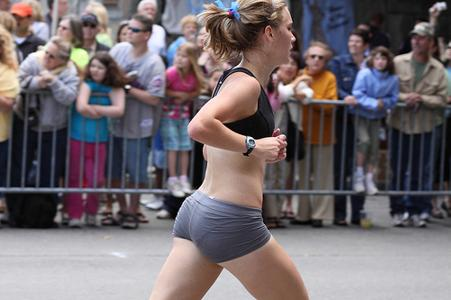person: (146, 1, 313, 300)
